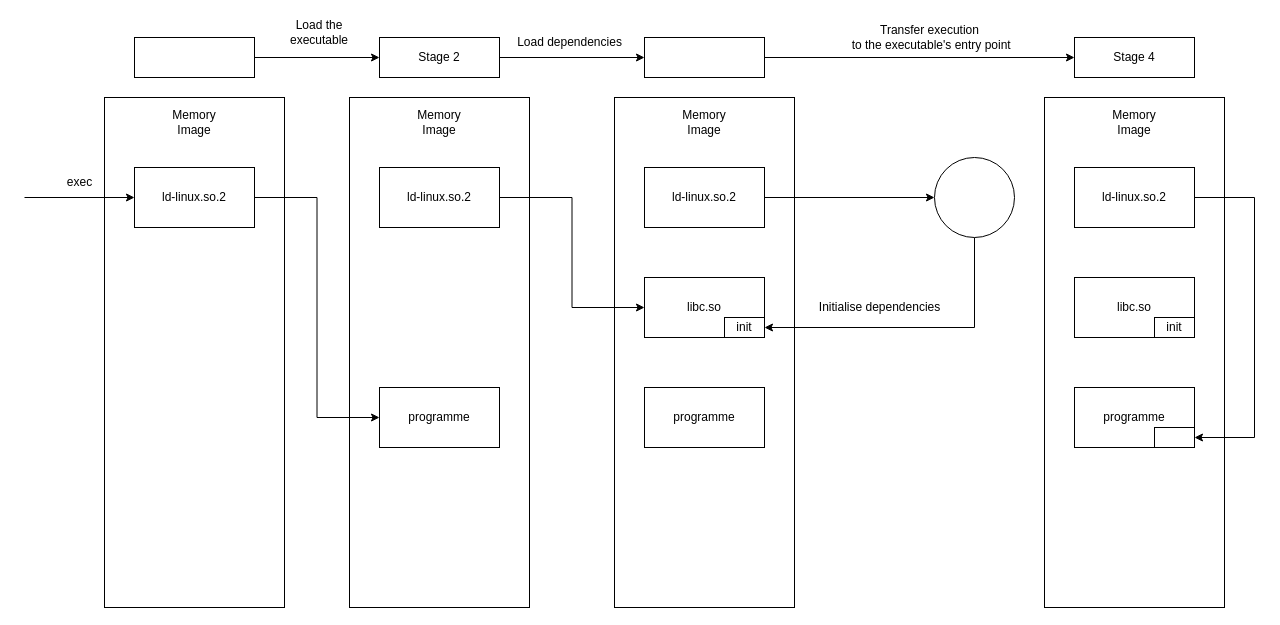
This 1280x625 diagram has some shape labels left out. The centre of each missing label's shape, as x and y in pixels:
"Apply relocations" goes at [974,197].
"EP" goes at [1174,437].
"Stage 1" goes at [194,57].
"Stage 3" goes at [704,57].
